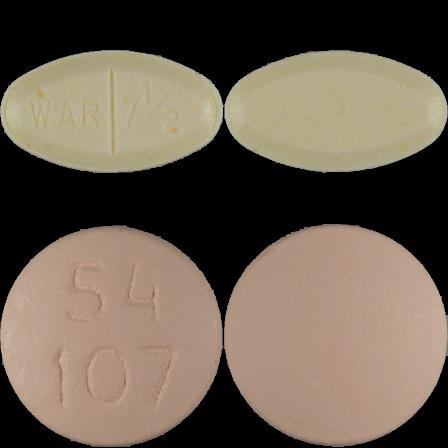49349-140: (0, 0, 224, 224)
